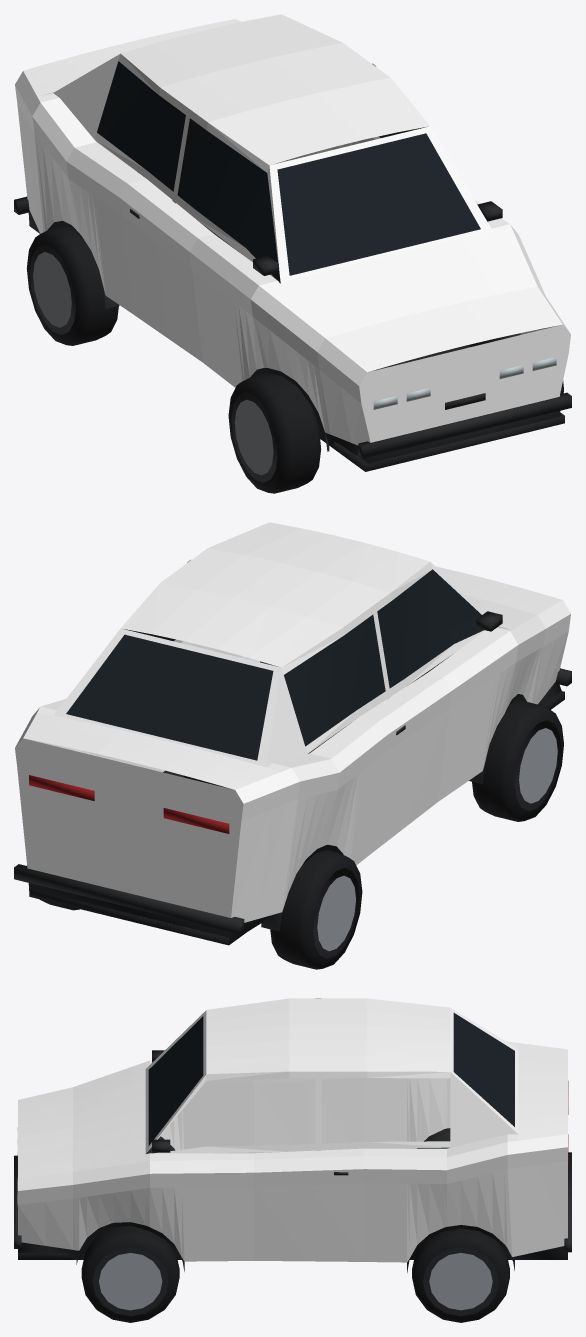
File: volnar_taiga.glb
The picture shows the model from 3 angles, top to bottom: view 1: azimuth 30°, elevation 25°; view 2: azimuth 150°, elevation 25°; view 3: azimuth 270°, elevation 25°; orthographic projection. The views are drawn at different scales.
Parts seen in each view (by area): view 1: Body_Paint, Body_Details, Mount_FrontLeft_Wheel_Details, Mount_RearLeft_Wheel_Details; view 2: Body_Paint, Body_Details, Mount_FrontLeft_Wheel_Details, Mount_RearLeft_Wheel_Details; view 3: Body_Paint, Body_Details, Mount_FrontRight_Wheel_Details, Mount_RearRight_Wheel_Details.
Boxes of the visible parts, x1,y1,x2,y2 form: Body_Paint: [15, 14, 570, 445]; Body_Details: [14, 61, 571, 471]; Mount_FrontLeft_Wheel_Details: [228, 373, 321, 493]; Mount_RearLeft_Wheel_Details: [26, 226, 118, 345]; Body_Paint: [15, 522, 570, 922]; Body_Details: [14, 569, 571, 945]; Mount_FrontLeft_Wheel_Details: [472, 699, 563, 821]; Mount_RearLeft_Wheel_Details: [270, 850, 362, 969]; Body_Paint: [18, 998, 567, 1262]; Body_Details: [14, 1013, 571, 1272]; Mount_FrontRight_Wheel_Details: [81, 1226, 179, 1322]; Mount_RearRight_Wheel_Details: [412, 1228, 509, 1322].
Bounding box in the file's own units: 1.9 × 1.84 × 3.93.
2 materials, 1 textured.
